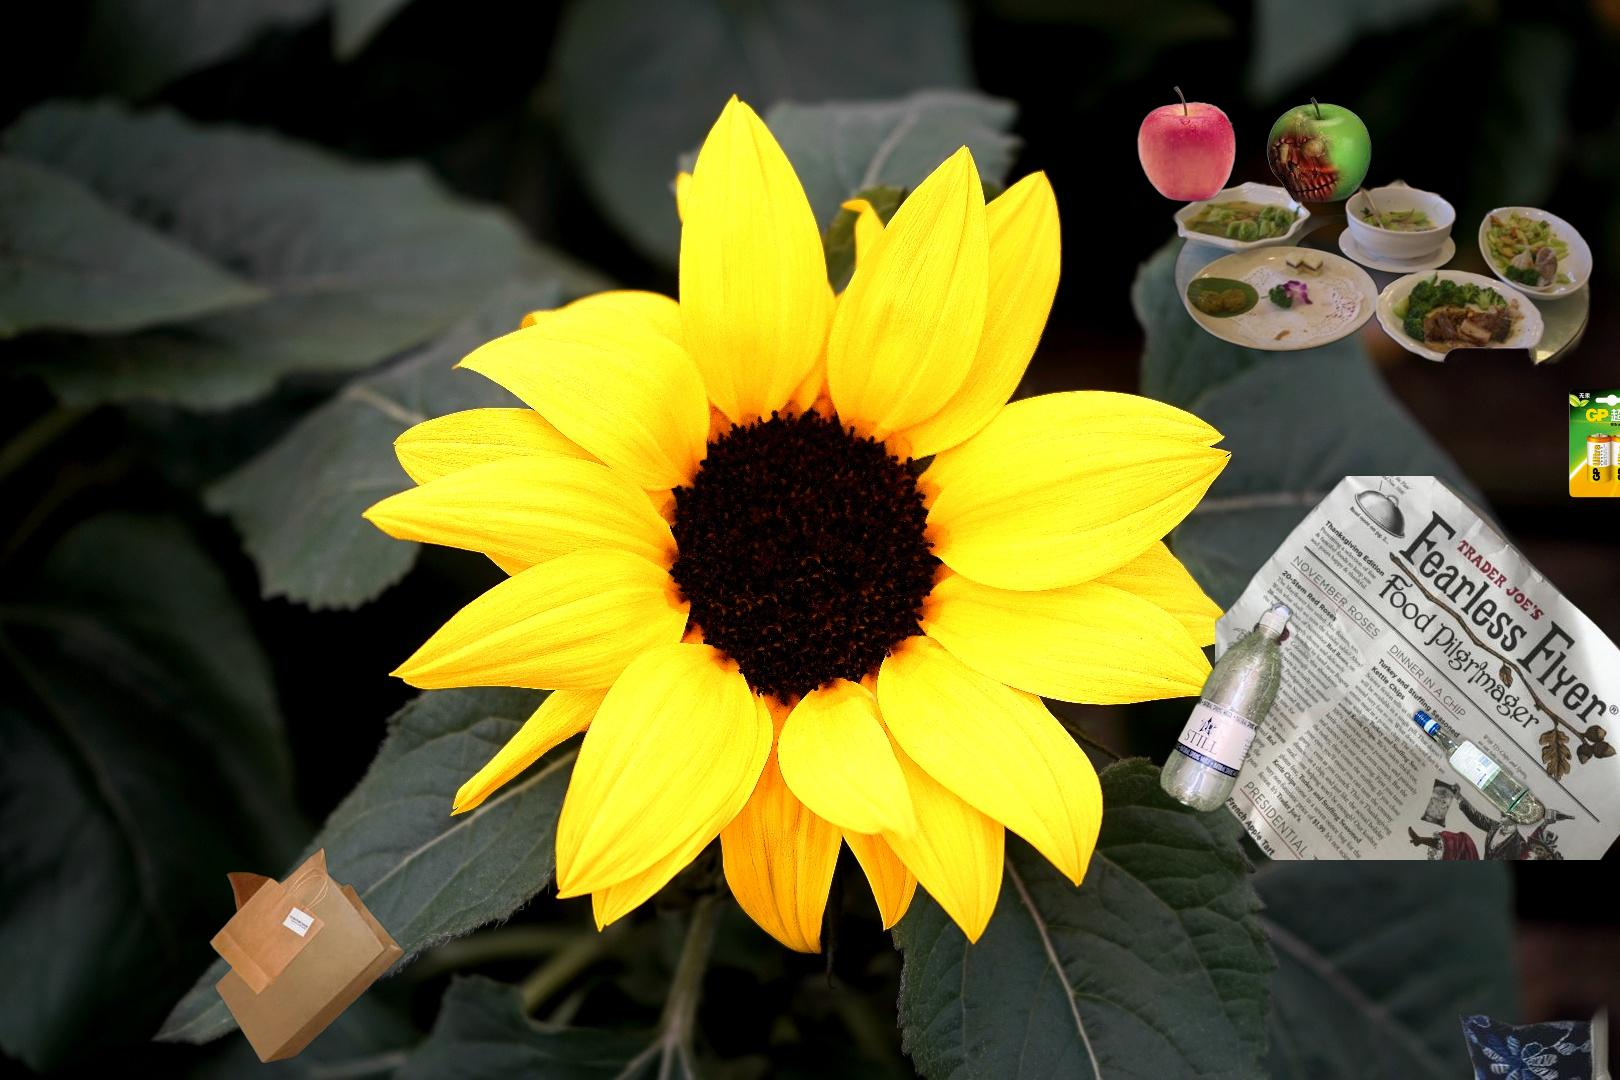battery: (1566, 386, 1620, 500)
biological: (1166, 165, 1610, 405), (1117, 83, 1374, 240)
glass: (1409, 703, 1551, 843)
paper: (1215, 476, 1620, 859)
paper-bag: (207, 844, 407, 1066)
plastic-bottles: (1155, 598, 1296, 818)
shoes: (1454, 867, 1620, 1080)
